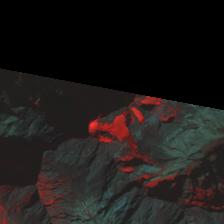landslides: (149, 161, 199, 202), (211, 122, 224, 130)
